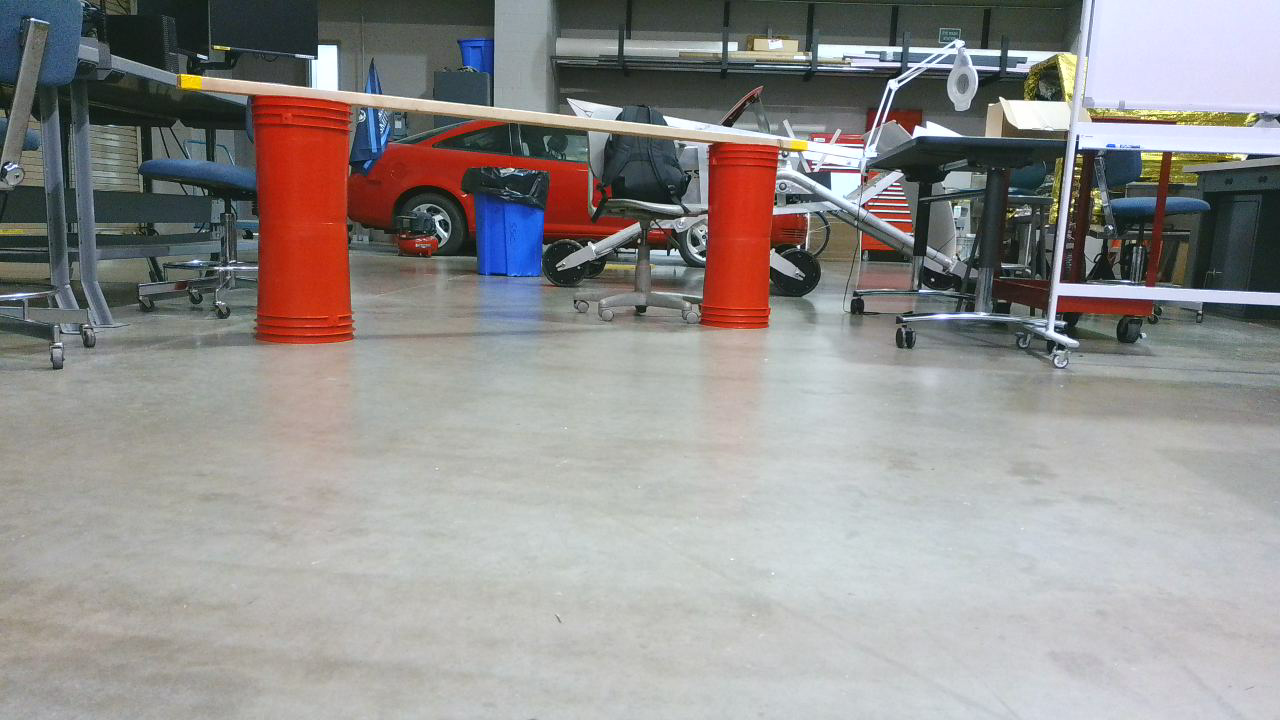red_bucket_arch: (254, 85, 786, 347)
